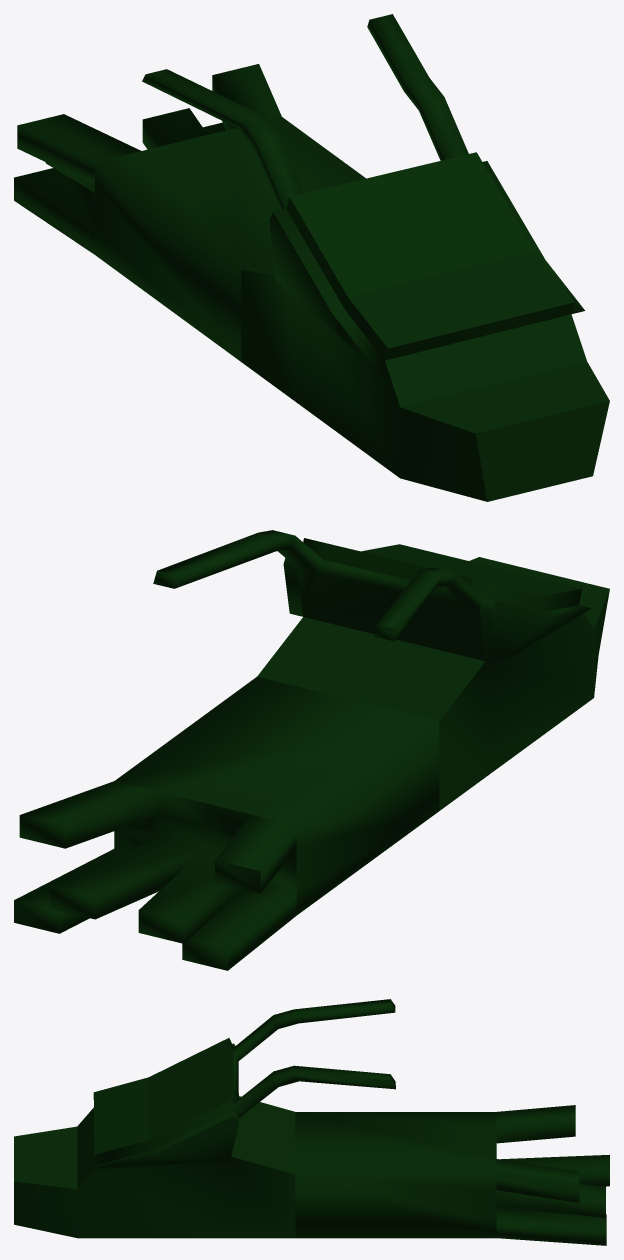
File: habilidadChino.obj
The picture shows the model from 3 angles, top to bottom: view 1: azimuth 30°, elevation 25°; view 2: azimuth 150°, elevation 25°; view 3: azimuth 270°, elevation 25°; orthographic projection. The views are drawn at different scales.
Visible parts, largest first — view 1: Cube.001; view 2: Cube.001; view 3: Cube.001.
Boxes of the visible parts, bbox=[...] form: Cube.001: bbox=[14, 14, 609, 501]; Cube.001: bbox=[14, 530, 609, 970]; Cube.001: bbox=[14, 999, 609, 1245].
Size of the model in its own units: 6.19 by 5.75 by 18.54.
